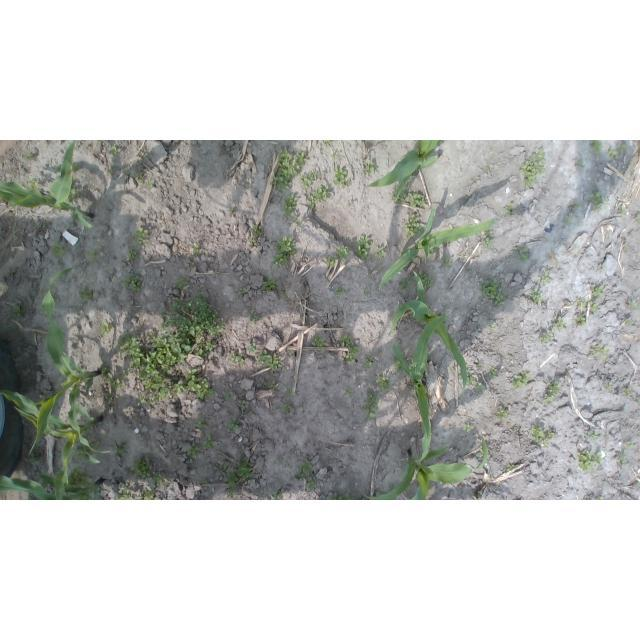Maize: (28, 267, 112, 457), (0, 390, 110, 500), (378, 208, 496, 289), (388, 312, 448, 465), (393, 267, 468, 389), (359, 434, 490, 500), (0, 140, 92, 229), (365, 140, 442, 202), (0, 472, 104, 499)
Weeds: (160, 291, 224, 357), (139, 330, 191, 405), (271, 146, 307, 190), (118, 332, 146, 368), (522, 148, 545, 189), (186, 368, 215, 400), (482, 277, 505, 307), (531, 424, 558, 448), (99, 366, 121, 393), (306, 185, 331, 208), (578, 449, 603, 472), (73, 440, 99, 461), (130, 458, 153, 481), (363, 388, 379, 420), (65, 466, 88, 488), (258, 350, 282, 370), (121, 273, 143, 294), (355, 234, 371, 260), (333, 166, 351, 189), (543, 382, 561, 405), (406, 213, 423, 237), (296, 458, 316, 478), (276, 236, 297, 255), (235, 456, 251, 480), (590, 192, 609, 211), (227, 468, 238, 499), (416, 271, 434, 289), (132, 227, 149, 244), (513, 372, 530, 389), (300, 171, 316, 189), (283, 194, 298, 213), (393, 184, 406, 205), (118, 484, 135, 500), (376, 376, 392, 393), (262, 276, 279, 291), (408, 193, 425, 208), (399, 275, 412, 293), (12, 304, 24, 323), (138, 488, 157, 500), (50, 243, 66, 257), (345, 346, 359, 362), (512, 247, 528, 261), (589, 140, 603, 156), (496, 405, 509, 422), (532, 288, 545, 304), (553, 316, 566, 332), (364, 159, 377, 175), (591, 344, 609, 355), (288, 213, 302, 227), (203, 435, 217, 449), (227, 419, 241, 433), (272, 253, 288, 265), (332, 492, 356, 500), (483, 229, 493, 248), (187, 444, 200, 458), (591, 284, 604, 298), (539, 271, 552, 285), (312, 333, 324, 348), (100, 320, 113, 333), (80, 288, 93, 301), (152, 472, 165, 485), (336, 247, 349, 260), (616, 453, 629, 466), (126, 247, 138, 261), (229, 354, 244, 365), (69, 188, 81, 201), (340, 335, 352, 348), (362, 356, 374, 369), (540, 330, 552, 343), (235, 287, 249, 297), (176, 276, 188, 287), (252, 224, 263, 236), (574, 315, 585, 327), (590, 300, 601, 312), (604, 380, 615, 392), (28, 177, 38, 190), (263, 380, 277, 389), (87, 248, 97, 260), (109, 144, 121, 154), (116, 444, 126, 456), (375, 247, 385, 259), (474, 382, 484, 394), (489, 367, 499, 379), (586, 431, 598, 441), (134, 173, 144, 184), (220, 459, 229, 471), (504, 204, 513, 216), (223, 391, 233, 401), (439, 311, 449, 321), (629, 299, 639, 309), (608, 149, 617, 160), (488, 321, 497, 332), (578, 300, 587, 311), (388, 484, 399, 493), (307, 478, 315, 490), (285, 384, 293, 396), (251, 314, 261, 323), (282, 404, 292, 413), (248, 342, 257, 352), (327, 256, 336, 266), (343, 388, 353, 397), (405, 360, 413, 371), (466, 374, 474, 385), (121, 367, 128, 379), (395, 359, 402, 371), (25, 152, 34, 161), (31, 455, 40, 464), (197, 420, 206, 429), (572, 202, 581, 211), (51, 164, 61, 172), (272, 492, 280, 501), (444, 259, 453, 267), (619, 144, 627, 153), (464, 424, 473, 432), (576, 160, 585, 168), (228, 208, 237, 216), (107, 168, 114, 178), (623, 388, 633, 395), (72, 163, 81, 170), (250, 239, 259, 246), (259, 492, 266, 501), (333, 150, 340, 158), (336, 288, 344, 295), (565, 217, 572, 225), (476, 451, 484, 458), (193, 244, 199, 253), (239, 401, 245, 410), (486, 166, 495, 172), (627, 441, 634, 448), (324, 140, 332, 146), (376, 491, 384, 497), (621, 206, 627, 214), (507, 465, 515, 471), (147, 182, 154, 188), (189, 261, 195, 268), (506, 353, 513, 359), (637, 211, 640, 223), (431, 248, 438, 253), (282, 290, 287, 296), (205, 480, 210, 486), (625, 320, 631, 325), (601, 355, 606, 361), (458, 374, 463, 380), (632, 231, 637, 237), (285, 461, 289, 468), (104, 392, 109, 397), (452, 368, 457, 373), (476, 363, 482, 367), (108, 398, 112, 403), (600, 265, 603, 271), (364, 292, 368, 296), (598, 497, 603, 500), (637, 398, 640, 402)
